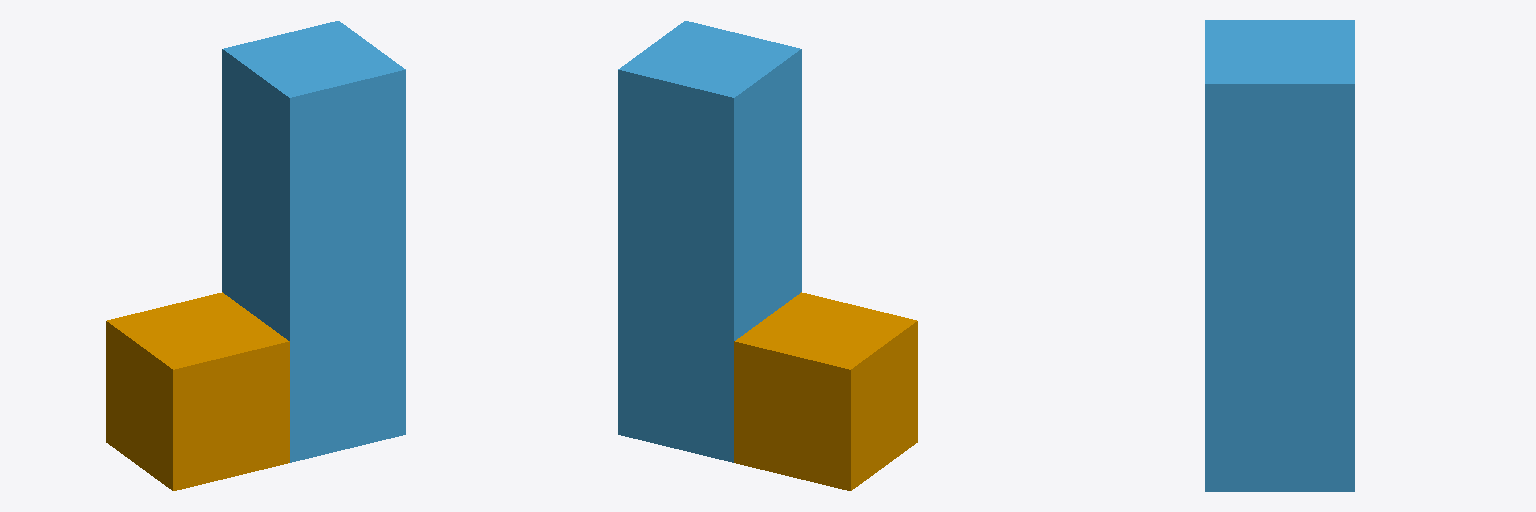
The robot description file, URDF, robot "robot_L":
<?xml version="1.0"?>
	<robot name="robot_L">

		<!-- lien 1 -->
		<link name="base_link">
			<visual>
				<origin rpy="0 0 0" xyz="0 0 0"/>
				<geometry>
					<box size="0.5 0.5 0.5"/>
			   </geometry>
			</visual>

			<collision>
				<origin rpy="0 0 0" xyz="0 0 0"/>
				<geometry>
					<box size="0.5 0.5 0.5"/>
			   </geometry>
    		</collision>
		</link>
		<!-- fin lien 1 -->

		<!-- lien 2--> 
		<link name="up_link">
			<visual>
				<origin rpy="0 0 0" xyz="0.5 0 0.5"/>
				<geometry>
					<box size="0.5 0.5 1.5"/>
			   </geometry>
			</visual>
			<collision>
				<origin rpy="0 0 0" xyz="0.5 0 0.5"/>
				<geometry>
					<box size="0.5 0.5 1.5"/>
		      </geometry>
	    	</collision>
		</link>
		<!--  fin lien 2 -->

   <joint name="base_to_up" type="fixed">
       <parent link="base_link"/>
       <child link="up_link"/>
			<origin xyz="0 0 0"/>
   </joint>
	</robot>

--- Render facts (derived) ---
3 views of the same robot in one strip: view 1: azimuth 30°, elevation 25°; view 2: azimuth 150°, elevation 25°; view 3: azimuth 270°, elevation 25° (orthographic).
Robot: robot_L — 2 links, 1 joints (1 fixed); root link base_link; default pose: every joint at zero.
Visible links, largest first — view 1: up_link, base_link; view 2: up_link, base_link; view 3: up_link.
Boxes of the visible links, x1,y1,x2,y2 form: up_link: [222, 21, 405, 462]; base_link: [106, 292, 289, 490]; up_link: [618, 21, 801, 462]; base_link: [734, 292, 917, 490]; up_link: [1205, 20, 1354, 491].
Bounding box of the posed robot: 1 × 0.5 × 1.5 m (x, y, z).
Geometry: primitives only (box / cylinder / sphere), no mesh files.